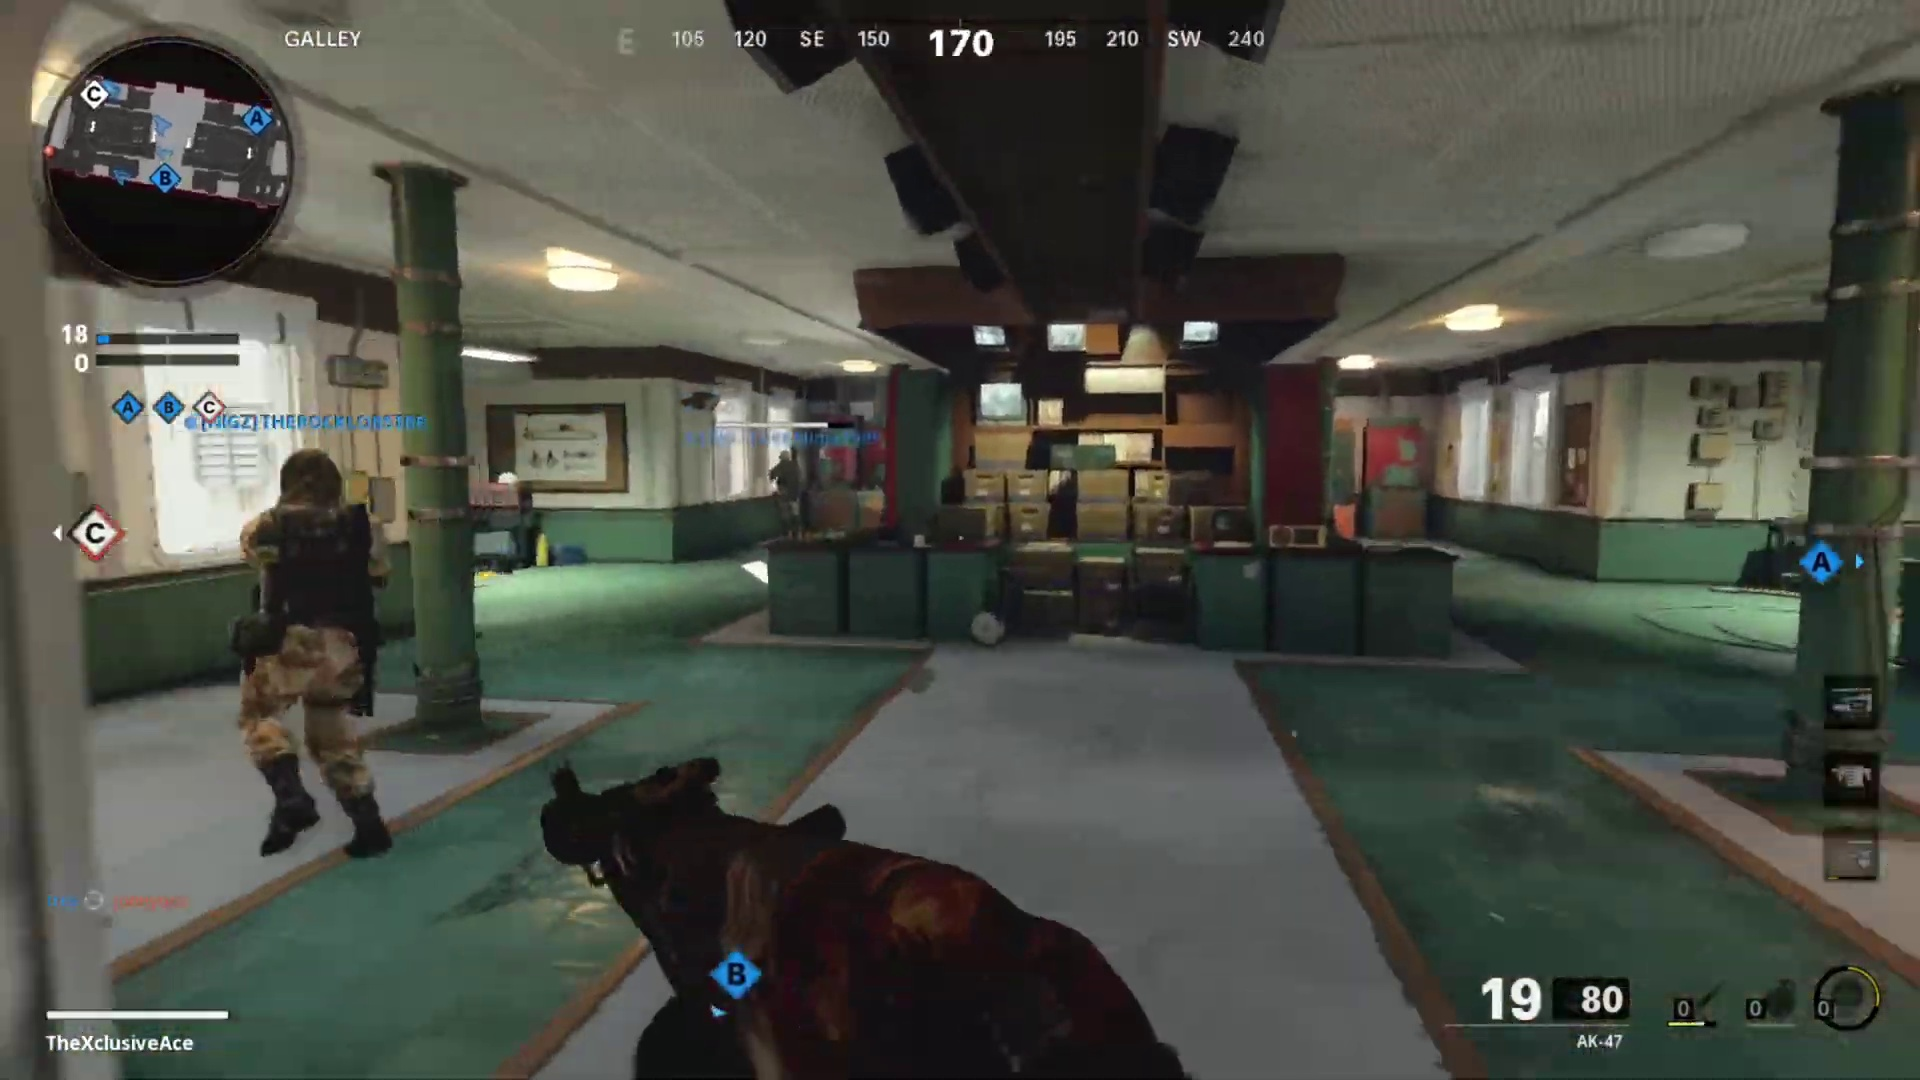head: (264, 441, 351, 524), (775, 444, 794, 467)
person: (227, 440, 397, 862), (767, 447, 801, 535)
